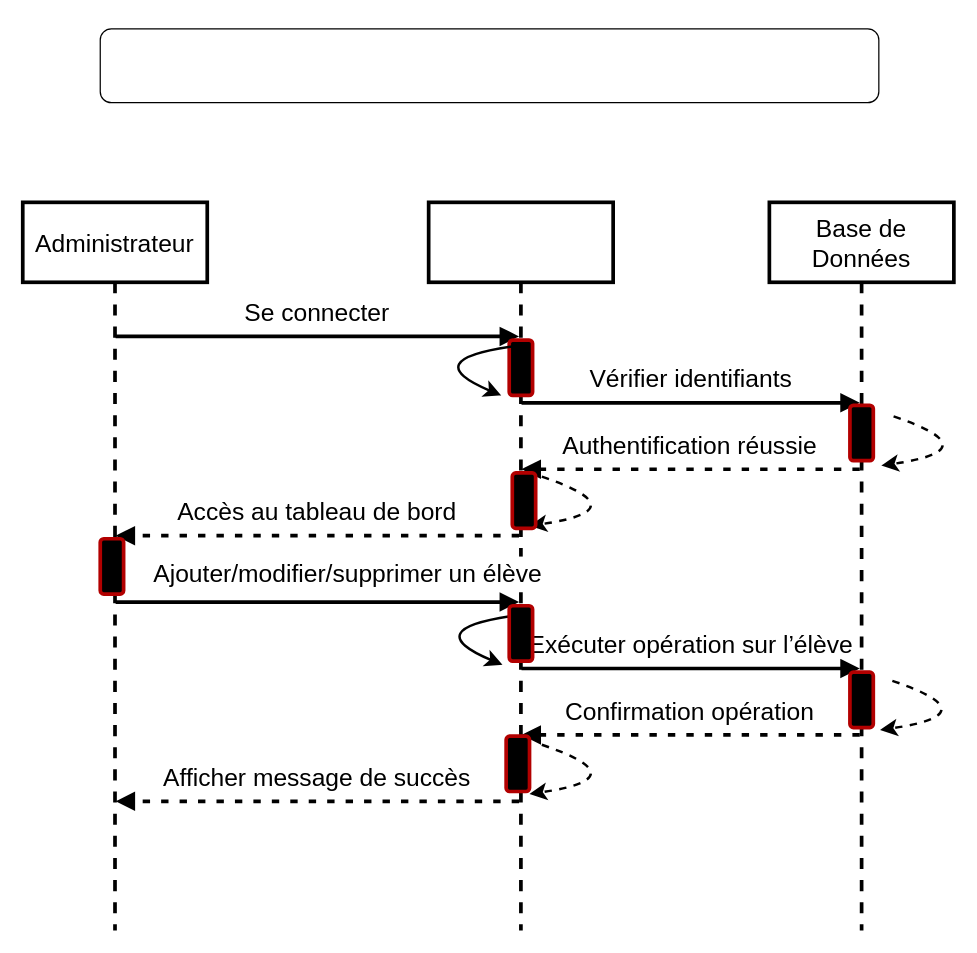
The diagram is 977 pixels wide and 953 high, and some of its shapes have lost their labels. Here are the shapes that lost their labels. From the top down, the box of each, then its label:
(99, 28, 879, 103): Gérer élèves
(426, 200, 614, 932): Système
